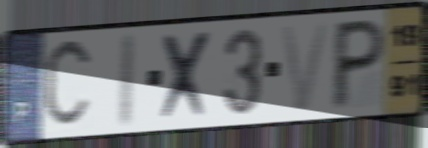3: (220, 26, 263, 118)
C: (40, 34, 95, 136)
I: (114, 30, 138, 131)
P: (328, 16, 389, 113)
V: (278, 20, 333, 114)
X: (158, 28, 216, 124)
